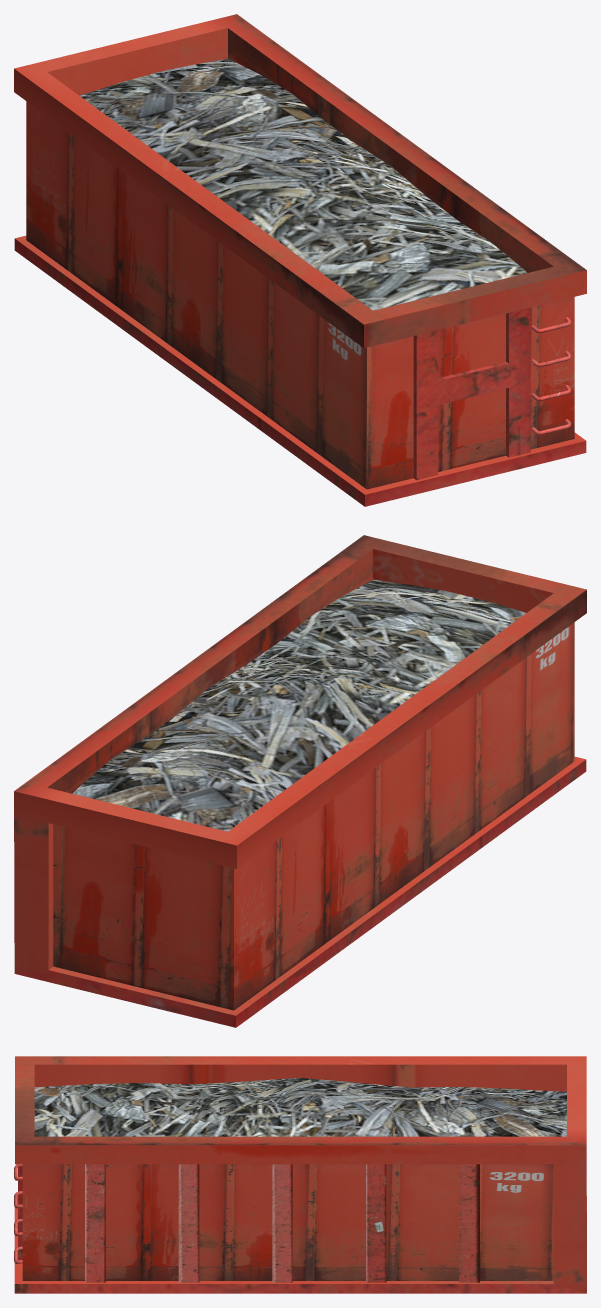
Rendered from scrap2.fbx.
3 views of the same model, one above another, from view 1: azimuth 30°, elevation 25°; view 2: azimuth 150°, elevation 25°; view 3: azimuth 270°, elevation 25° (orthographic). The views are drawn at different scales.
Parts seen in each view (by area): view 1: dumpster, trash; view 2: dumpster, trash; view 3: dumpster, trash.
Boxes of the visible parts, left/top/right/bottom form: dumpster: left=14, top=14, right=586, bottom=506; trash: left=79, top=58, right=526, bottom=310; dumpster: left=14, top=535, right=586, bottom=1027; trash: left=72, top=579, right=525, bottom=831; dumpster: left=14, top=1056, right=586, bottom=1293; trash: left=34, top=1077, right=566, bottom=1136.
Size of the model in its own units: 6.75 by 5.34 by 18.37.
Materials: 1 (1 with a texture image).
